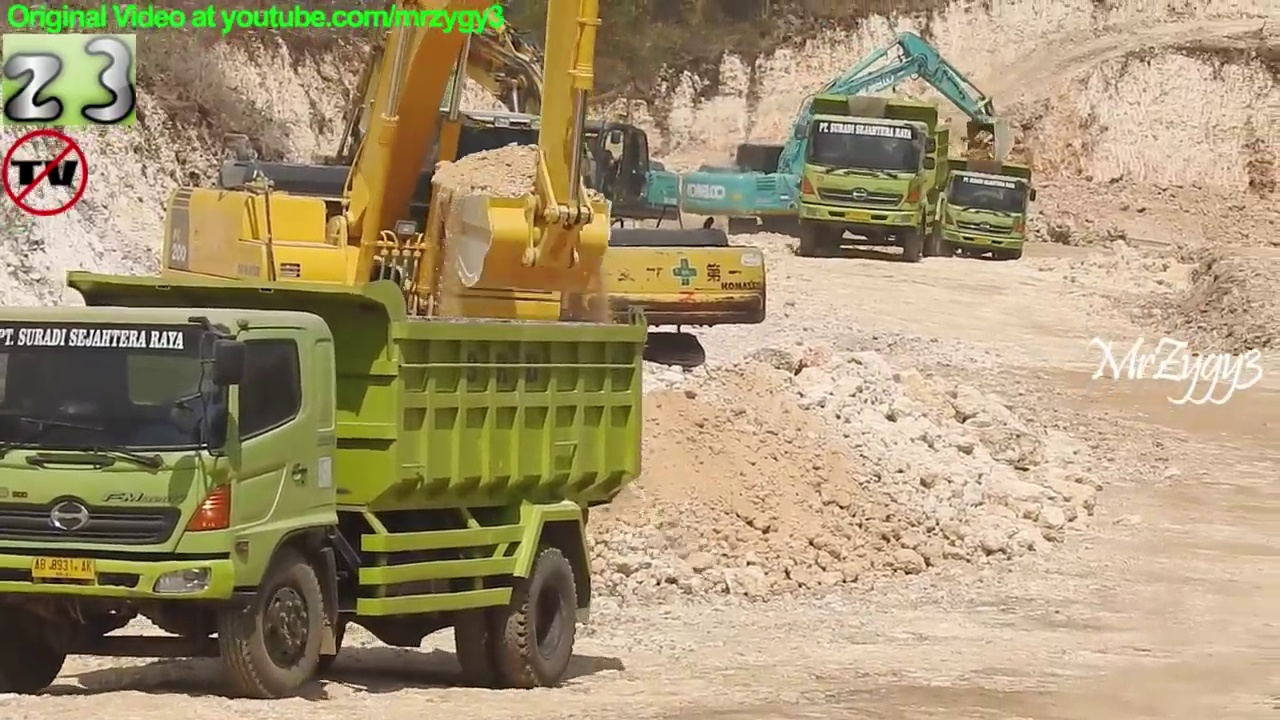excavator: (110, 1, 630, 417), (274, 1, 775, 388), (682, 26, 1017, 244), (401, 1, 691, 245)
truck: (1, 262, 653, 706), (791, 90, 958, 268), (916, 151, 1046, 267)
